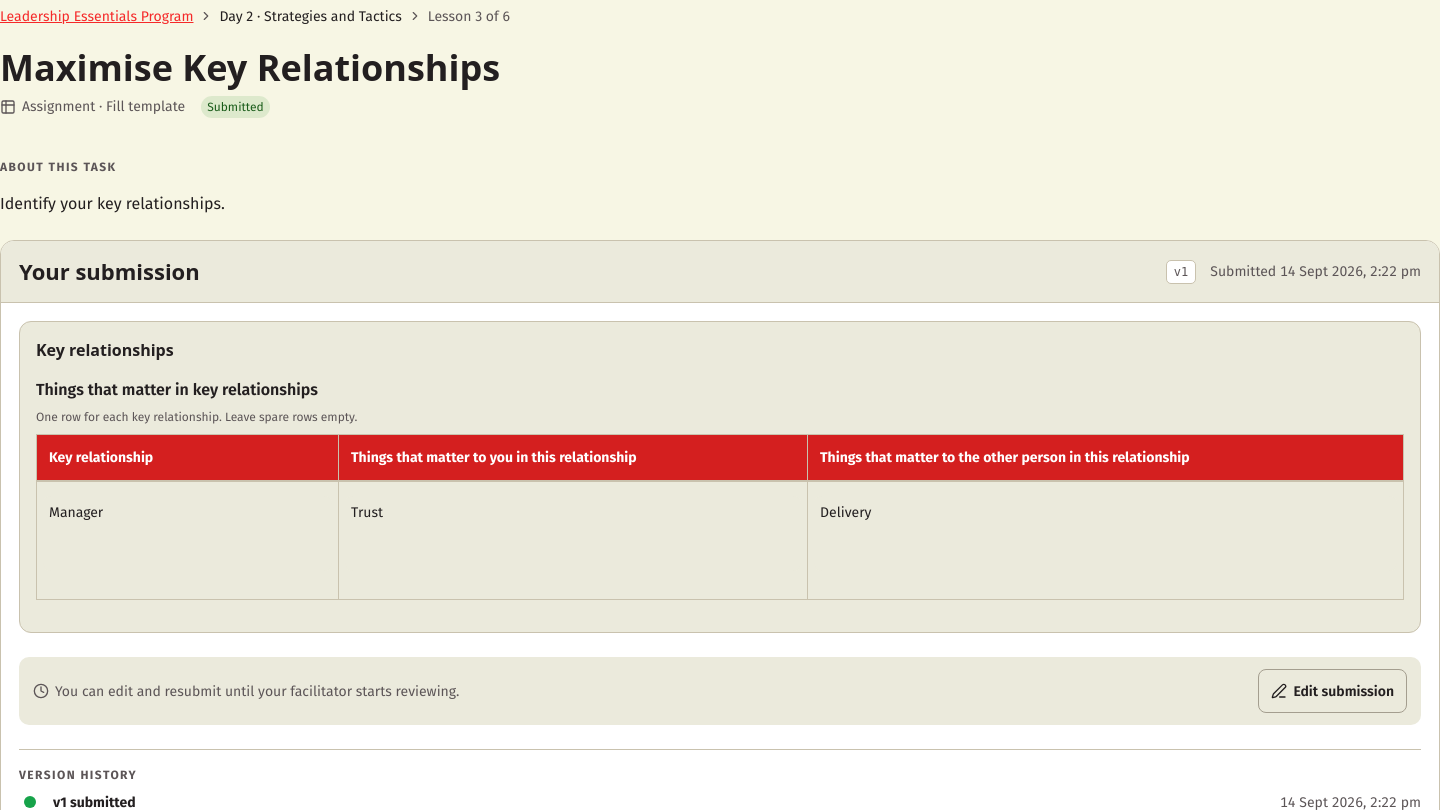
handed-in work, before review starts › opens the form on Edit, and says v1 stays until the learner resubmits
The image size is (1440, 810).
Click the button "Edit submission".
click(1333, 691)  # box [1258, 669, 1407, 713]
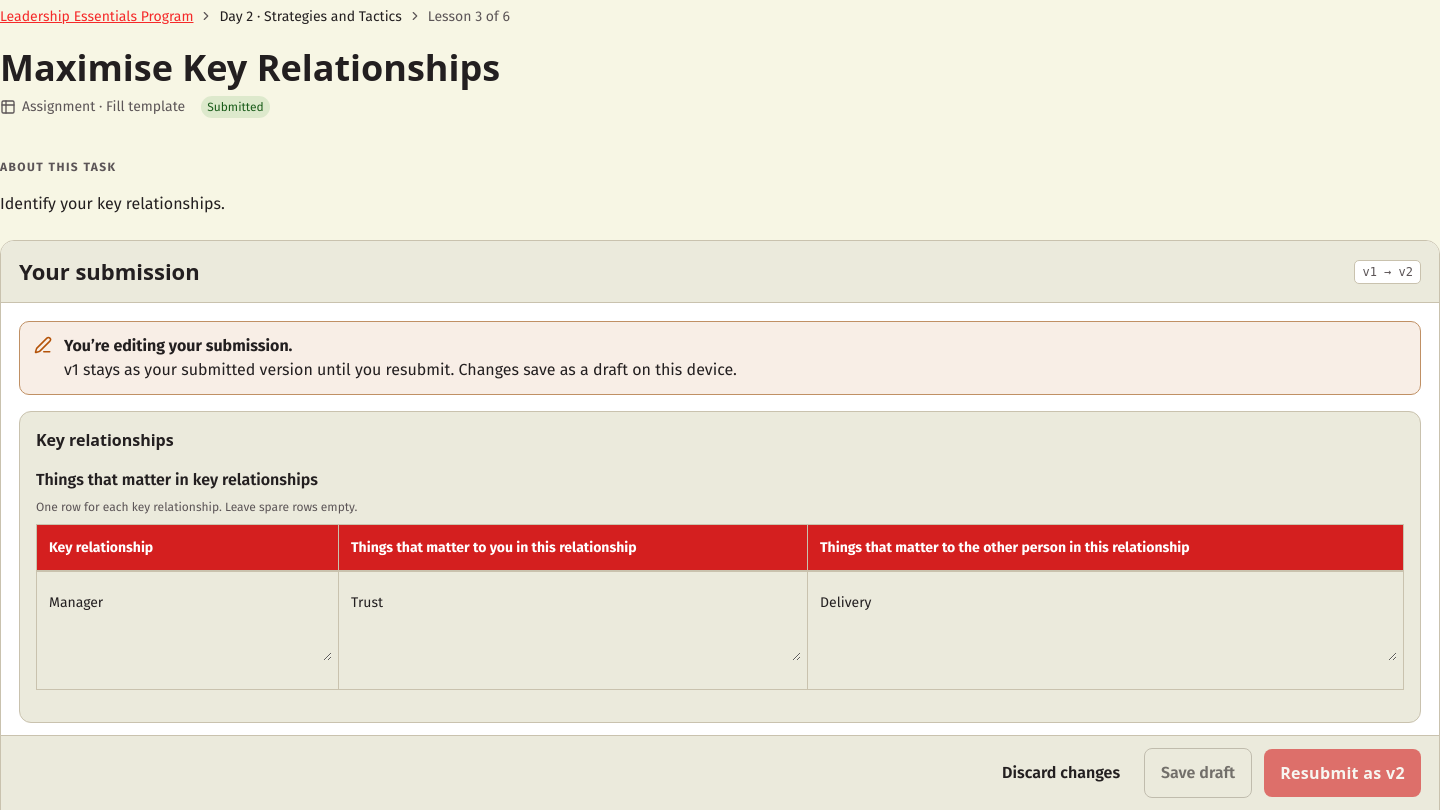
Now the element with class "mbw-form-template--locked" is gone
Now the text "v1 stays as your submitted version until you resubmit. Changes save as a draft on this device." is shown, box [64, 360, 737, 379]
Now the button "Save draft" is disabled, box [1144, 748, 1252, 798]
